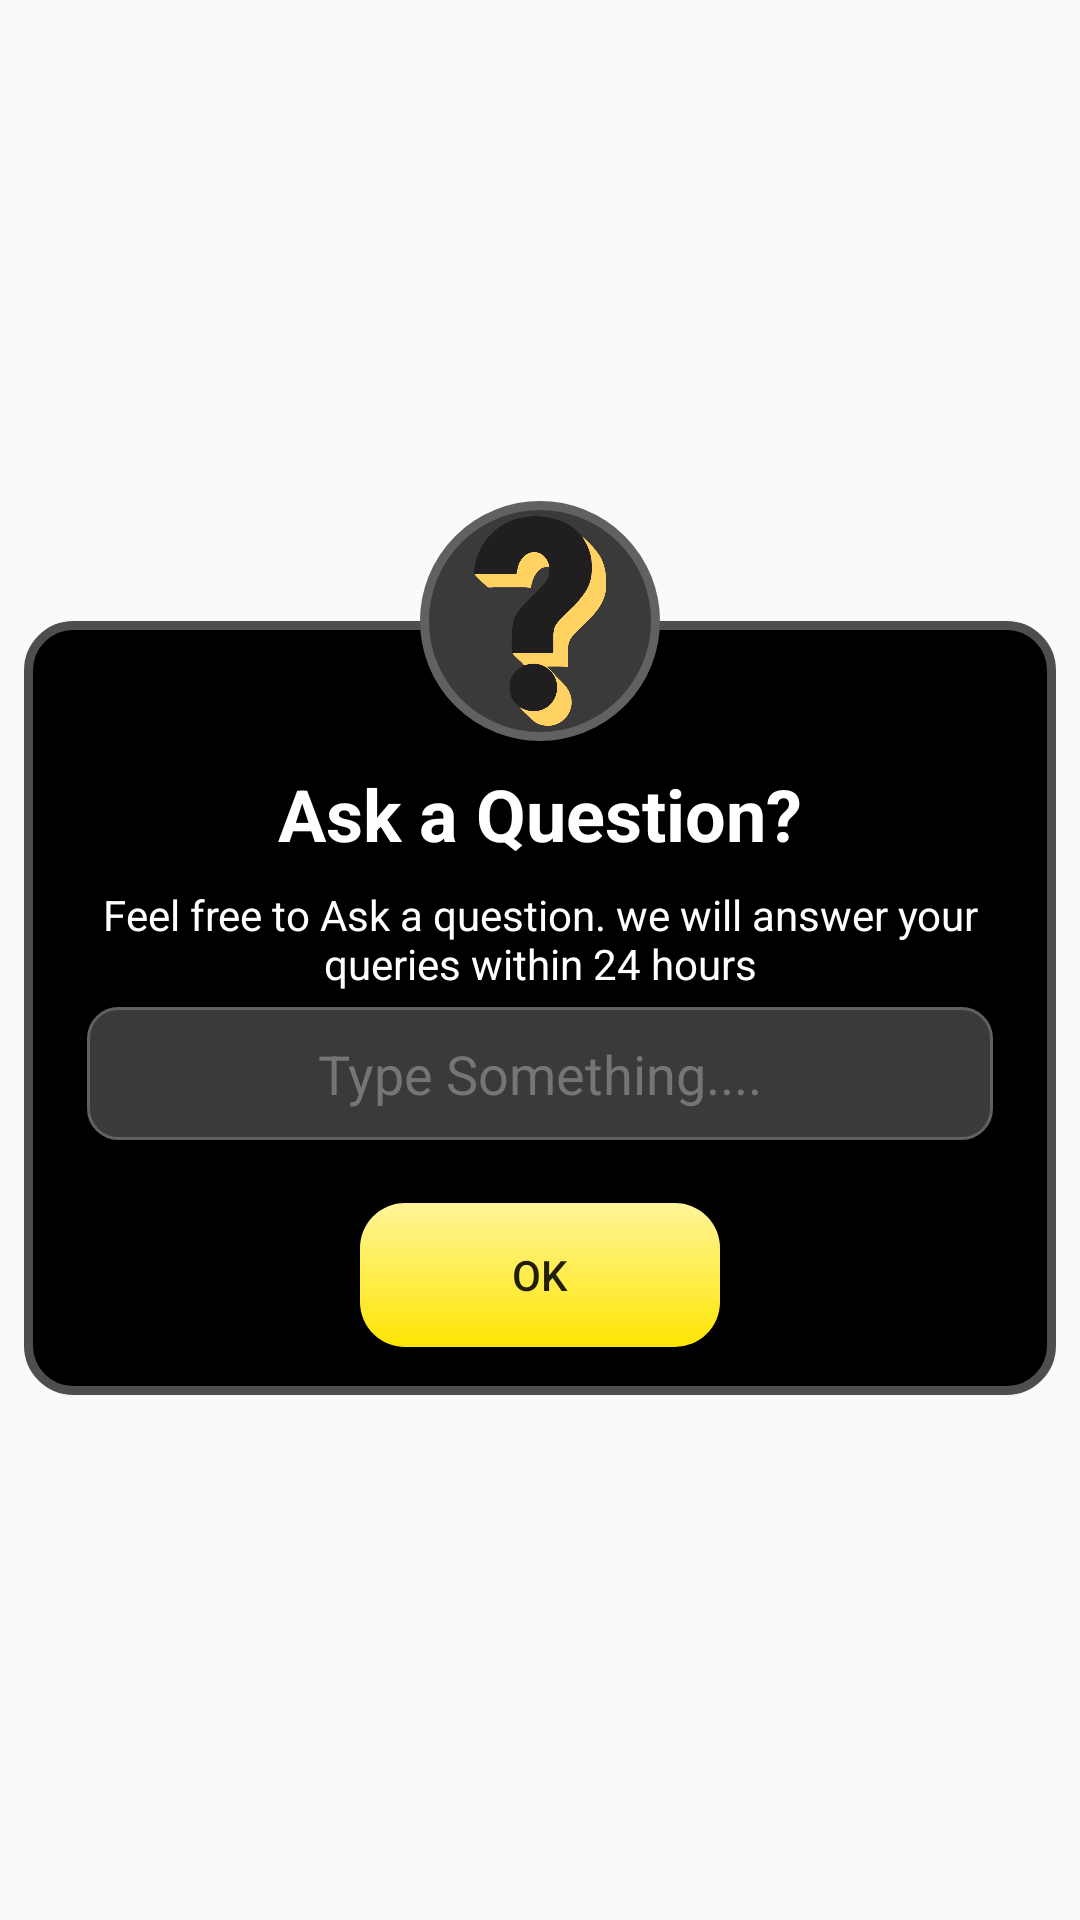

Point at icon controls on the screen. Image size 1080px x 1920px, points as point (x, y).
quesmark: point (540, 621)
